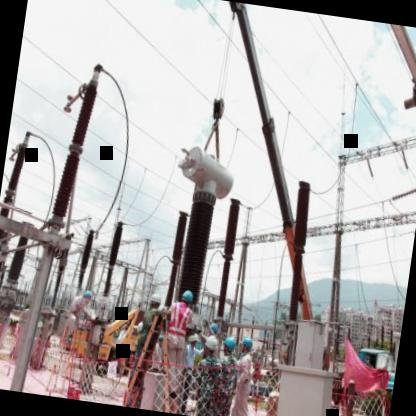helmet: (198, 334, 218, 361), (219, 335, 241, 359), (177, 286, 198, 310), (237, 332, 256, 356), (146, 289, 164, 310)
